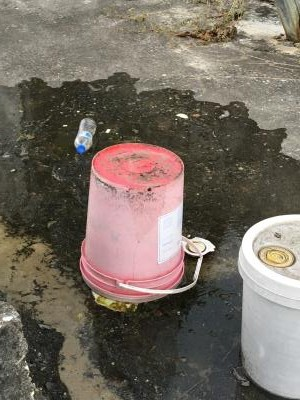bottle: (68, 114, 96, 158)
bucket: (76, 141, 193, 305), (235, 209, 300, 396)
